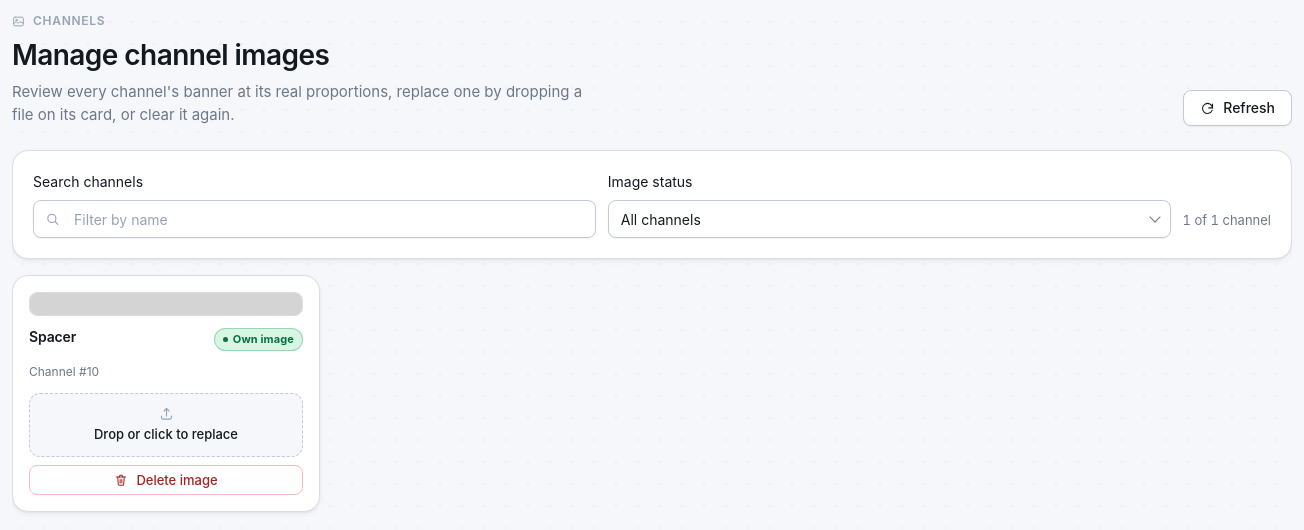
Test: reloads metadata after deleting a spacer image and displays its base fallback
Click the button "Delete image". click: (166, 480)
box: [29, 465, 303, 495]
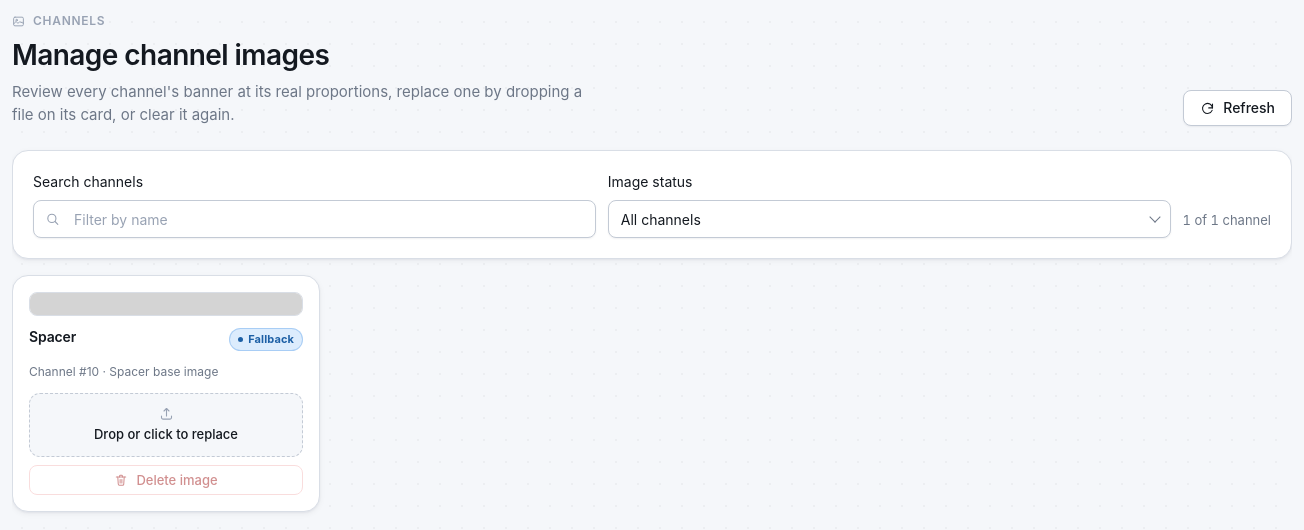
Expected: the text "Channel #10 · Spacer base image" is shown, [29, 364, 218, 379]
Expected: the button "Delete image" is disabled, [29, 465, 303, 495]
